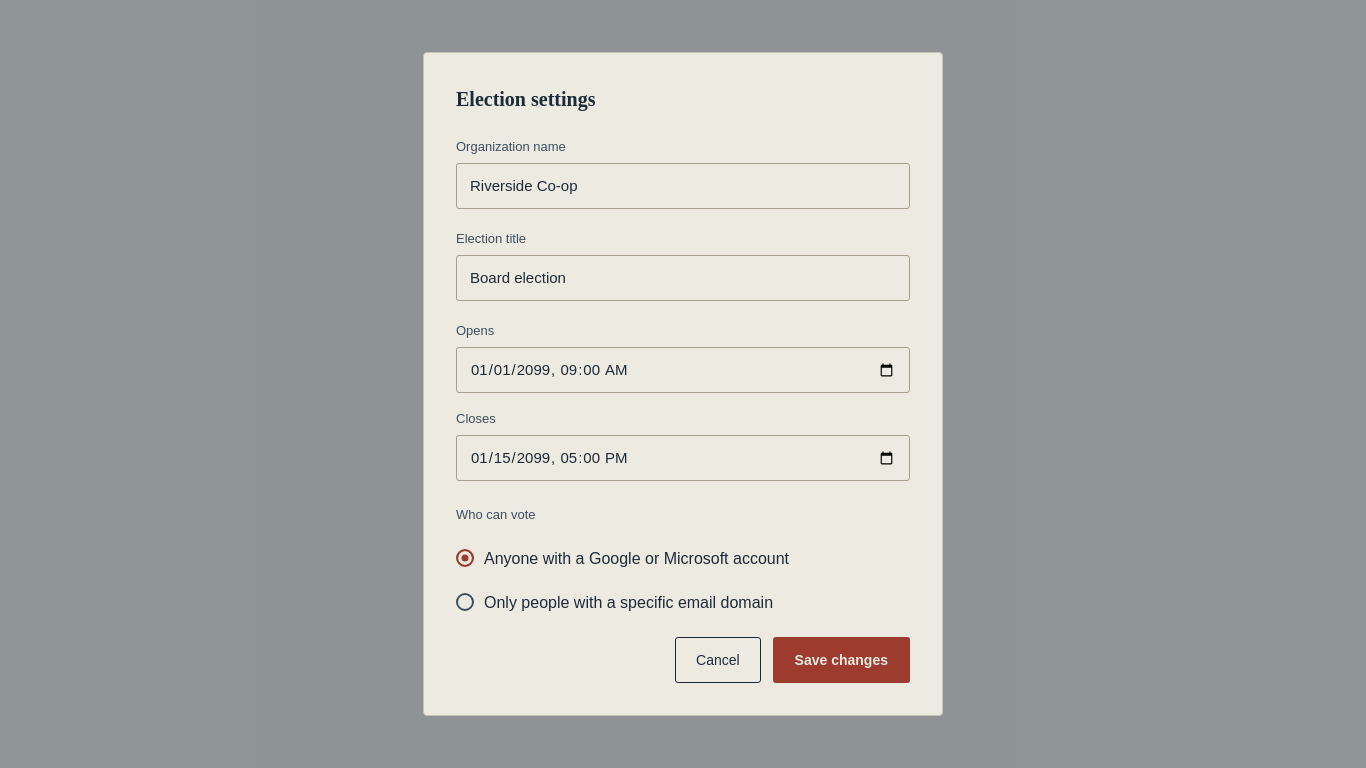
it: ElectionSettingsModal validation › blocks save when a date is cleared
The width and height of the screenshot is (1366, 768).
Step 1. Clear the field labelled "Closes" → {"x": 683, "y": 458}, box [456,435,910,481]
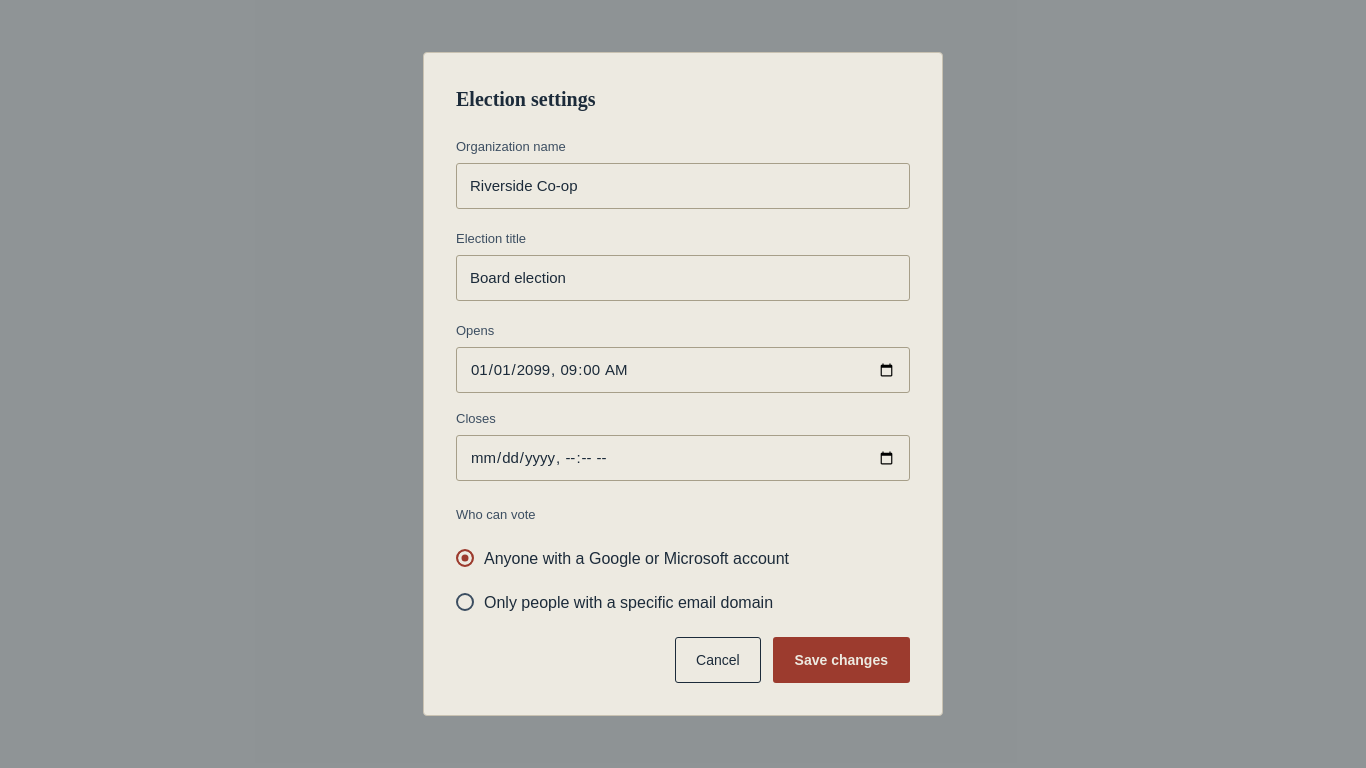
Step 2. Click the button "Save changes" → {"x": 841, "y": 660}, box [773,637,910,683]
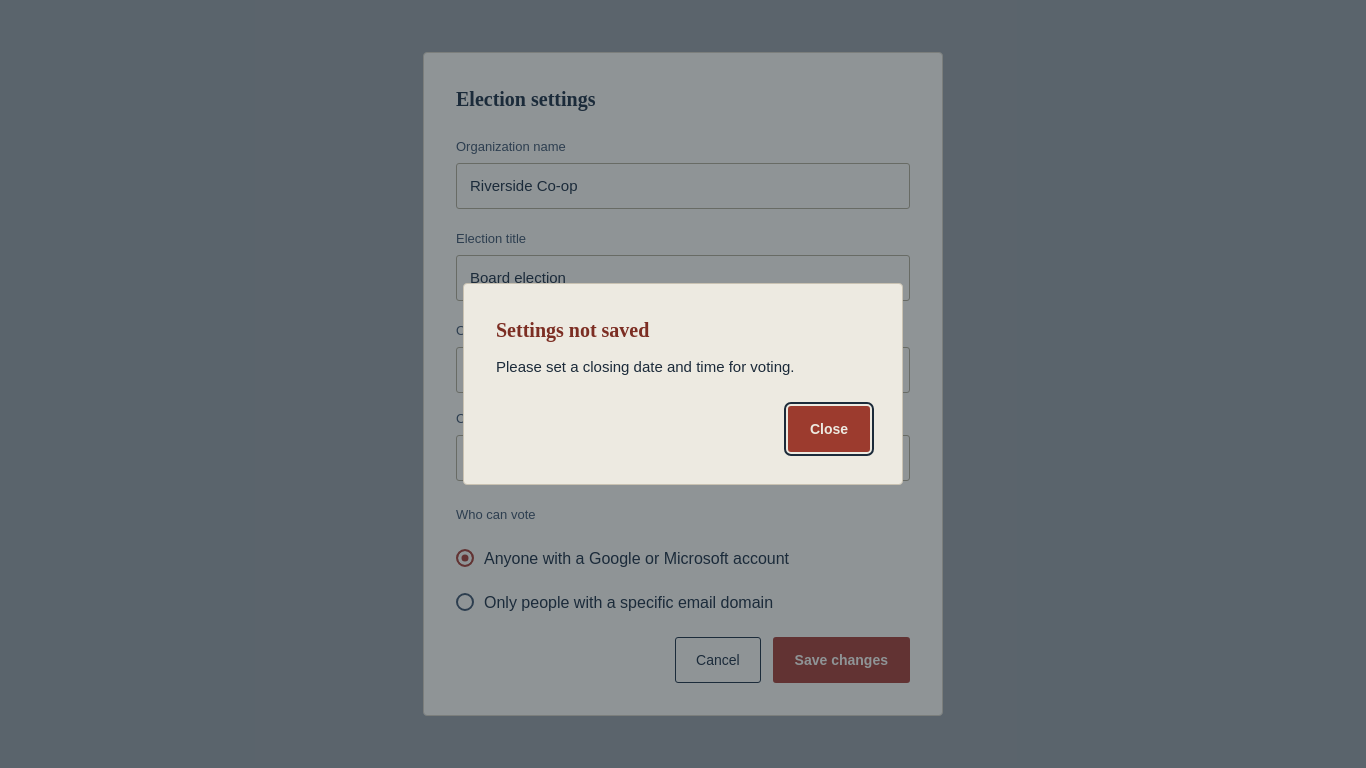
Expected: the dialog shows "Please set a closing date", [496,358,794,375]
